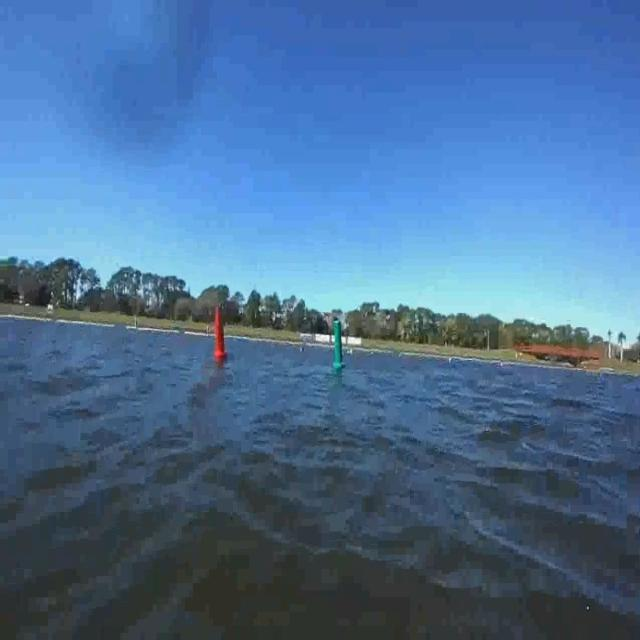green-column-buoy: (333, 321, 347, 372)
red-column-buoy: (213, 307, 229, 360)
